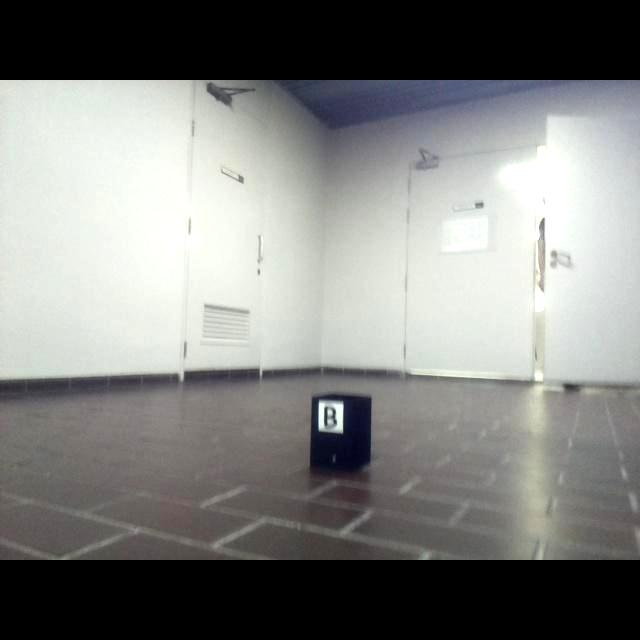B: (323, 406, 338, 431)
